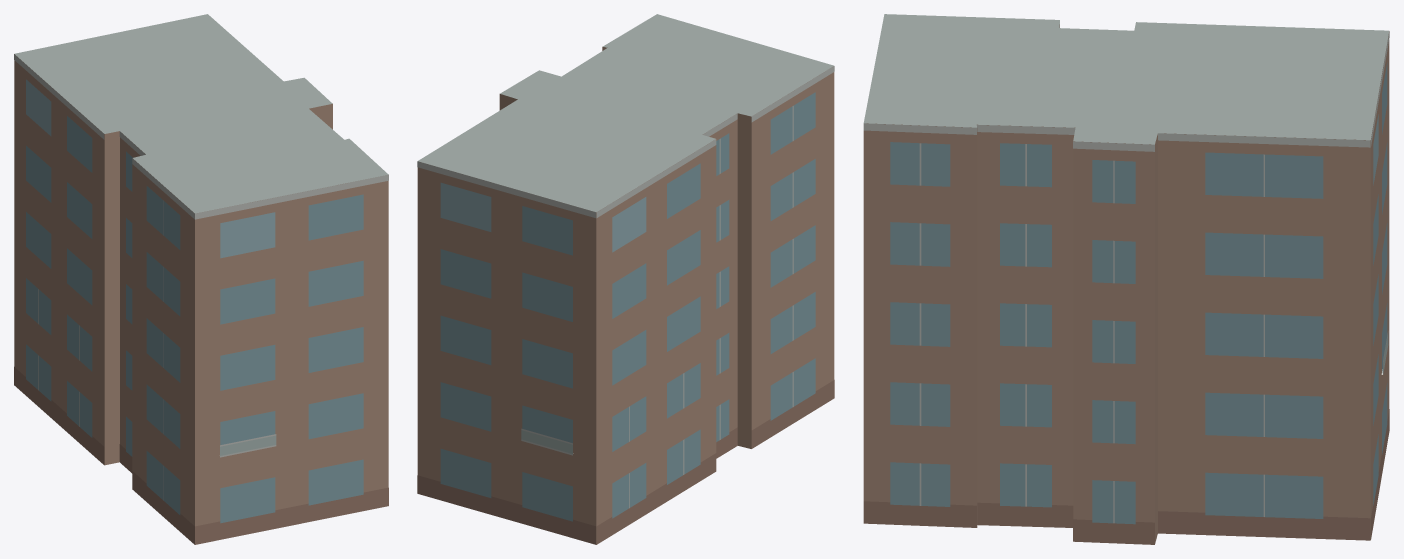
The model's file is survey-upis-33002602.glb.
3 views of the same model, side by side, from view 1: azimuth 30°, elevation 25°; view 2: azimuth 150°, elevation 25°; view 3: azimuth 270°, elevation 25° (orthographic). The views are drawn at different scales.
Parts seen in each view (by area): view 1: survey-upis-33002602.tmp; view 2: survey-upis-33002602.tmp; view 3: survey-upis-33002602.tmp.
Part boxes in pixels (x1=…): survey-upis-33002602.tmp: x1=14, y1=14, x2=388, y2=544; survey-upis-33002602.tmp: x1=417, y1=14, x2=834, y2=544; survey-upis-33002602.tmp: x1=863, y1=14, x2=1389, y2=544.
Size of the model in its own units: 9.39 by 13.4 by 15.96.
